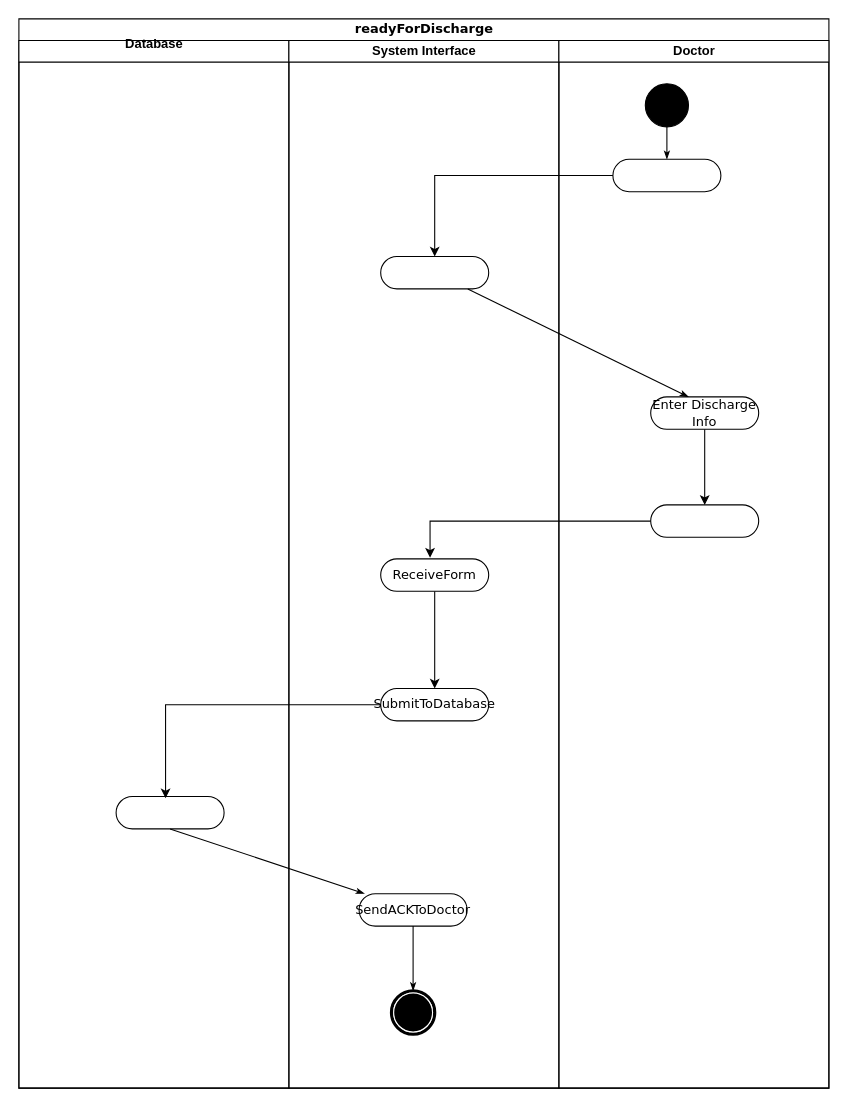
This 848x1107 diagram has some shape labels left out. Each missing label, with the centre of its shape:
"ConfirmRecord" belongs at point 169,812.
"Open Tab" belongs at point 434,272.
"Select Discharge Tab" belongs at point 666,175.
"SubmitInfo" belongs at point 704,520.
